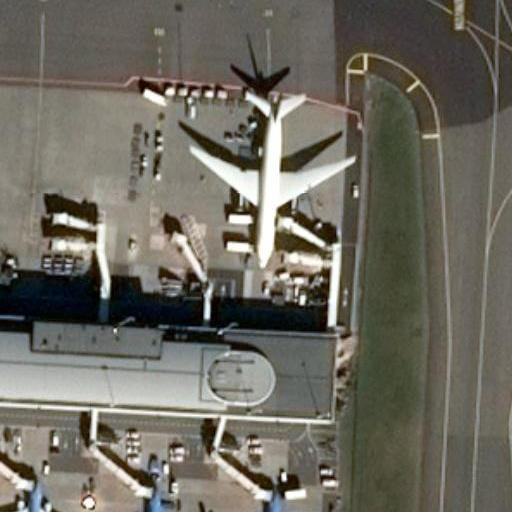Aircraft: (176, 80, 355, 269), (0, 474, 81, 512), (105, 483, 198, 512), (220, 489, 324, 512)
